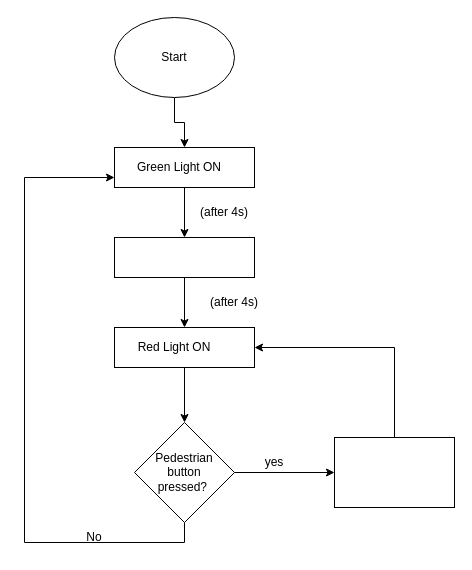
This 472x570 diagram has some shape labels left out. Here are the shapes that lost their labels. From the top down, the box of each, then its label:
(114, 236, 254, 278): Yellow Light ON
(334, 436, 454, 508): Pedestrian Mode: WALK for 5s
